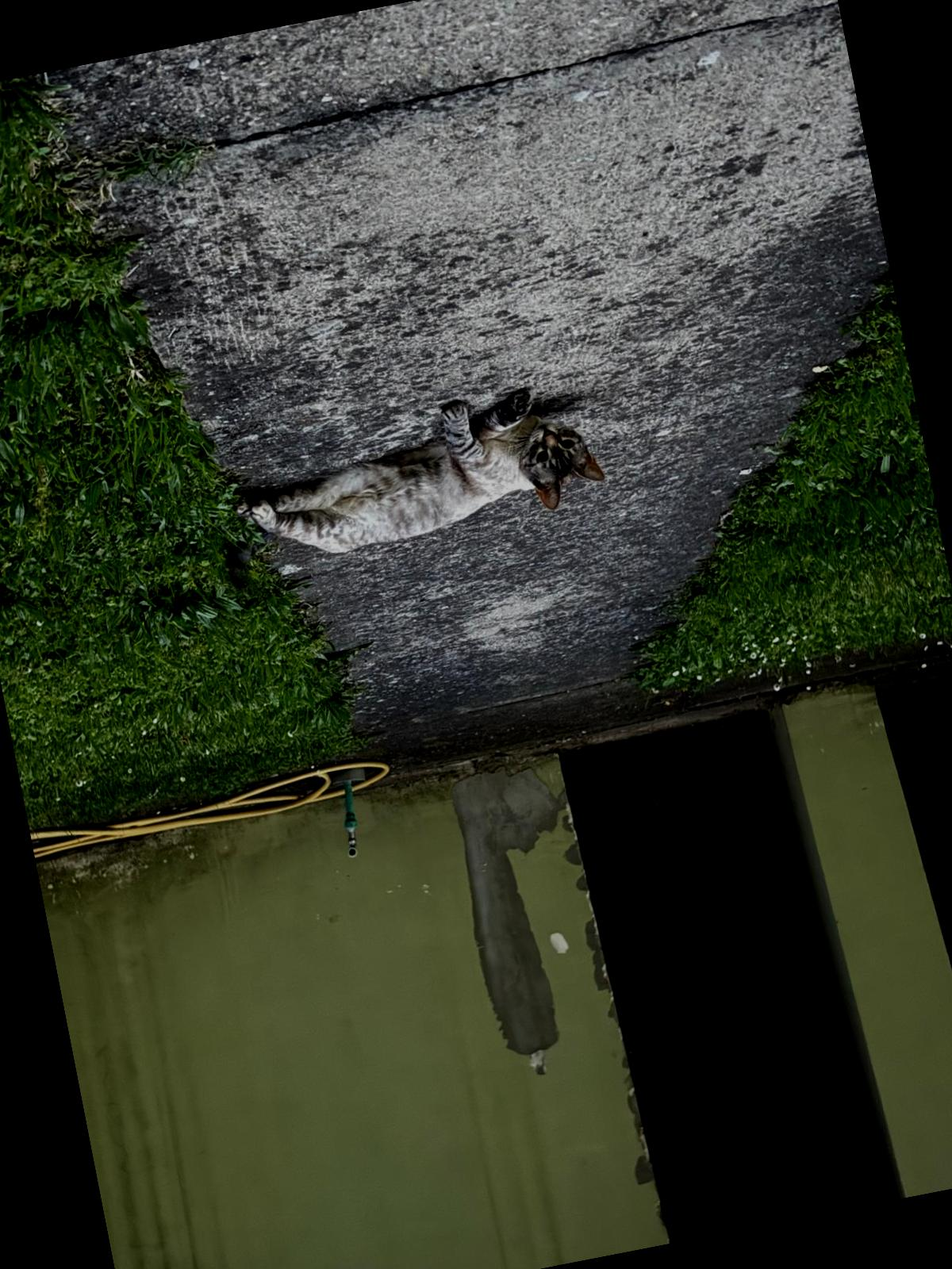macka: (222, 376, 611, 573)
